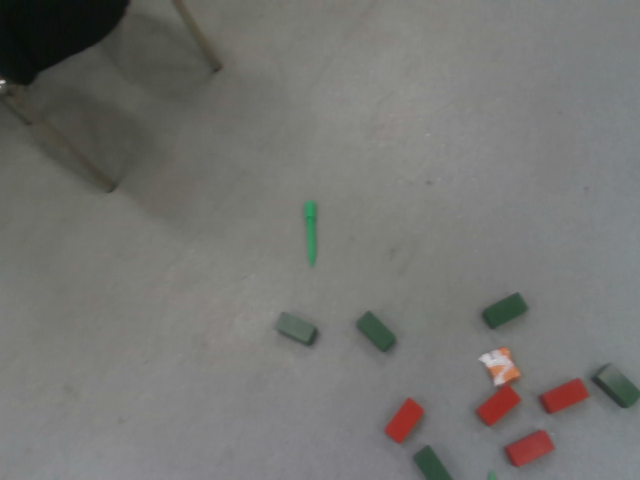Probe: (301, 197, 321, 268)
